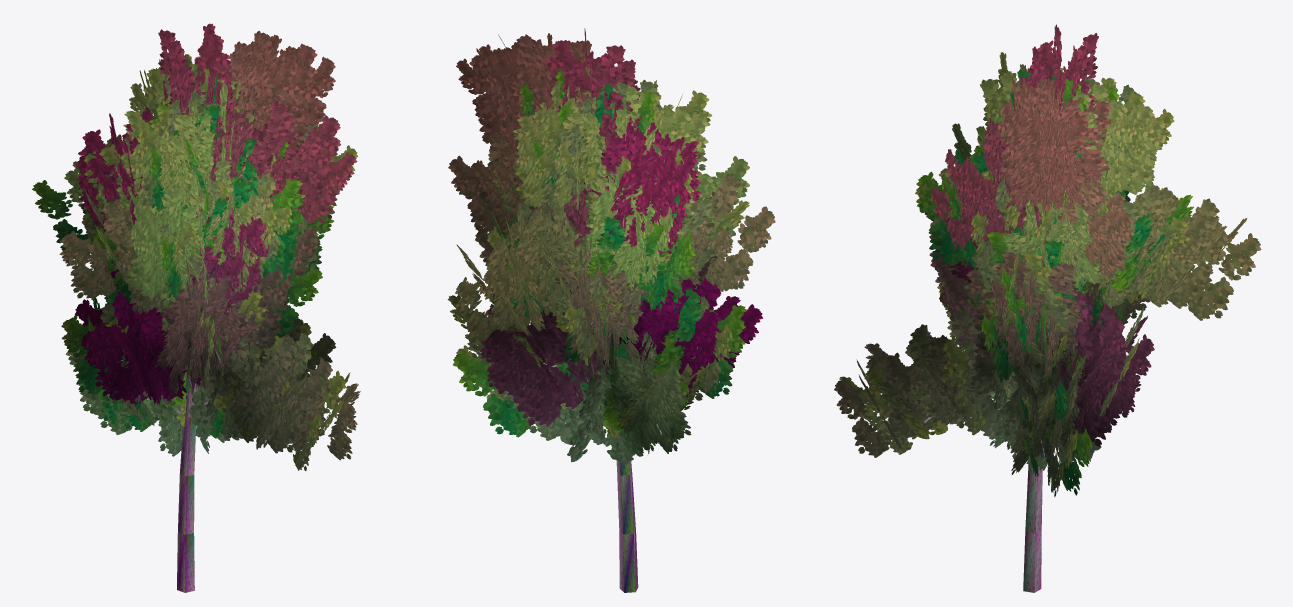
The model's file is nat_birch_c_LOD1.glb.
The picture shows the model from 3 angles, left to right: view 1: azimuth 30°, elevation 25°; view 2: azimuth 150°, elevation 25°; view 3: azimuth 270°, elevation 25°; orthographic projection. The views are drawn at different scales.
Parts seen in each view (by area): view 1: nat_birch_c_LOD1; view 2: nat_birch_c_LOD1; view 3: nat_birch_c_LOD1.
Boxes of the visible parts, <box> form: nat_birch_c_LOD1: <box>32,23,360,592</box>; nat_birch_c_LOD1: <box>447,28,775,592</box>; nat_birch_c_LOD1: <box>834,24,1261,592</box>.
Size of the model in its own units: 6.52 by 10.73 by 7.85.
Materials: 2 (2 with a texture image).
